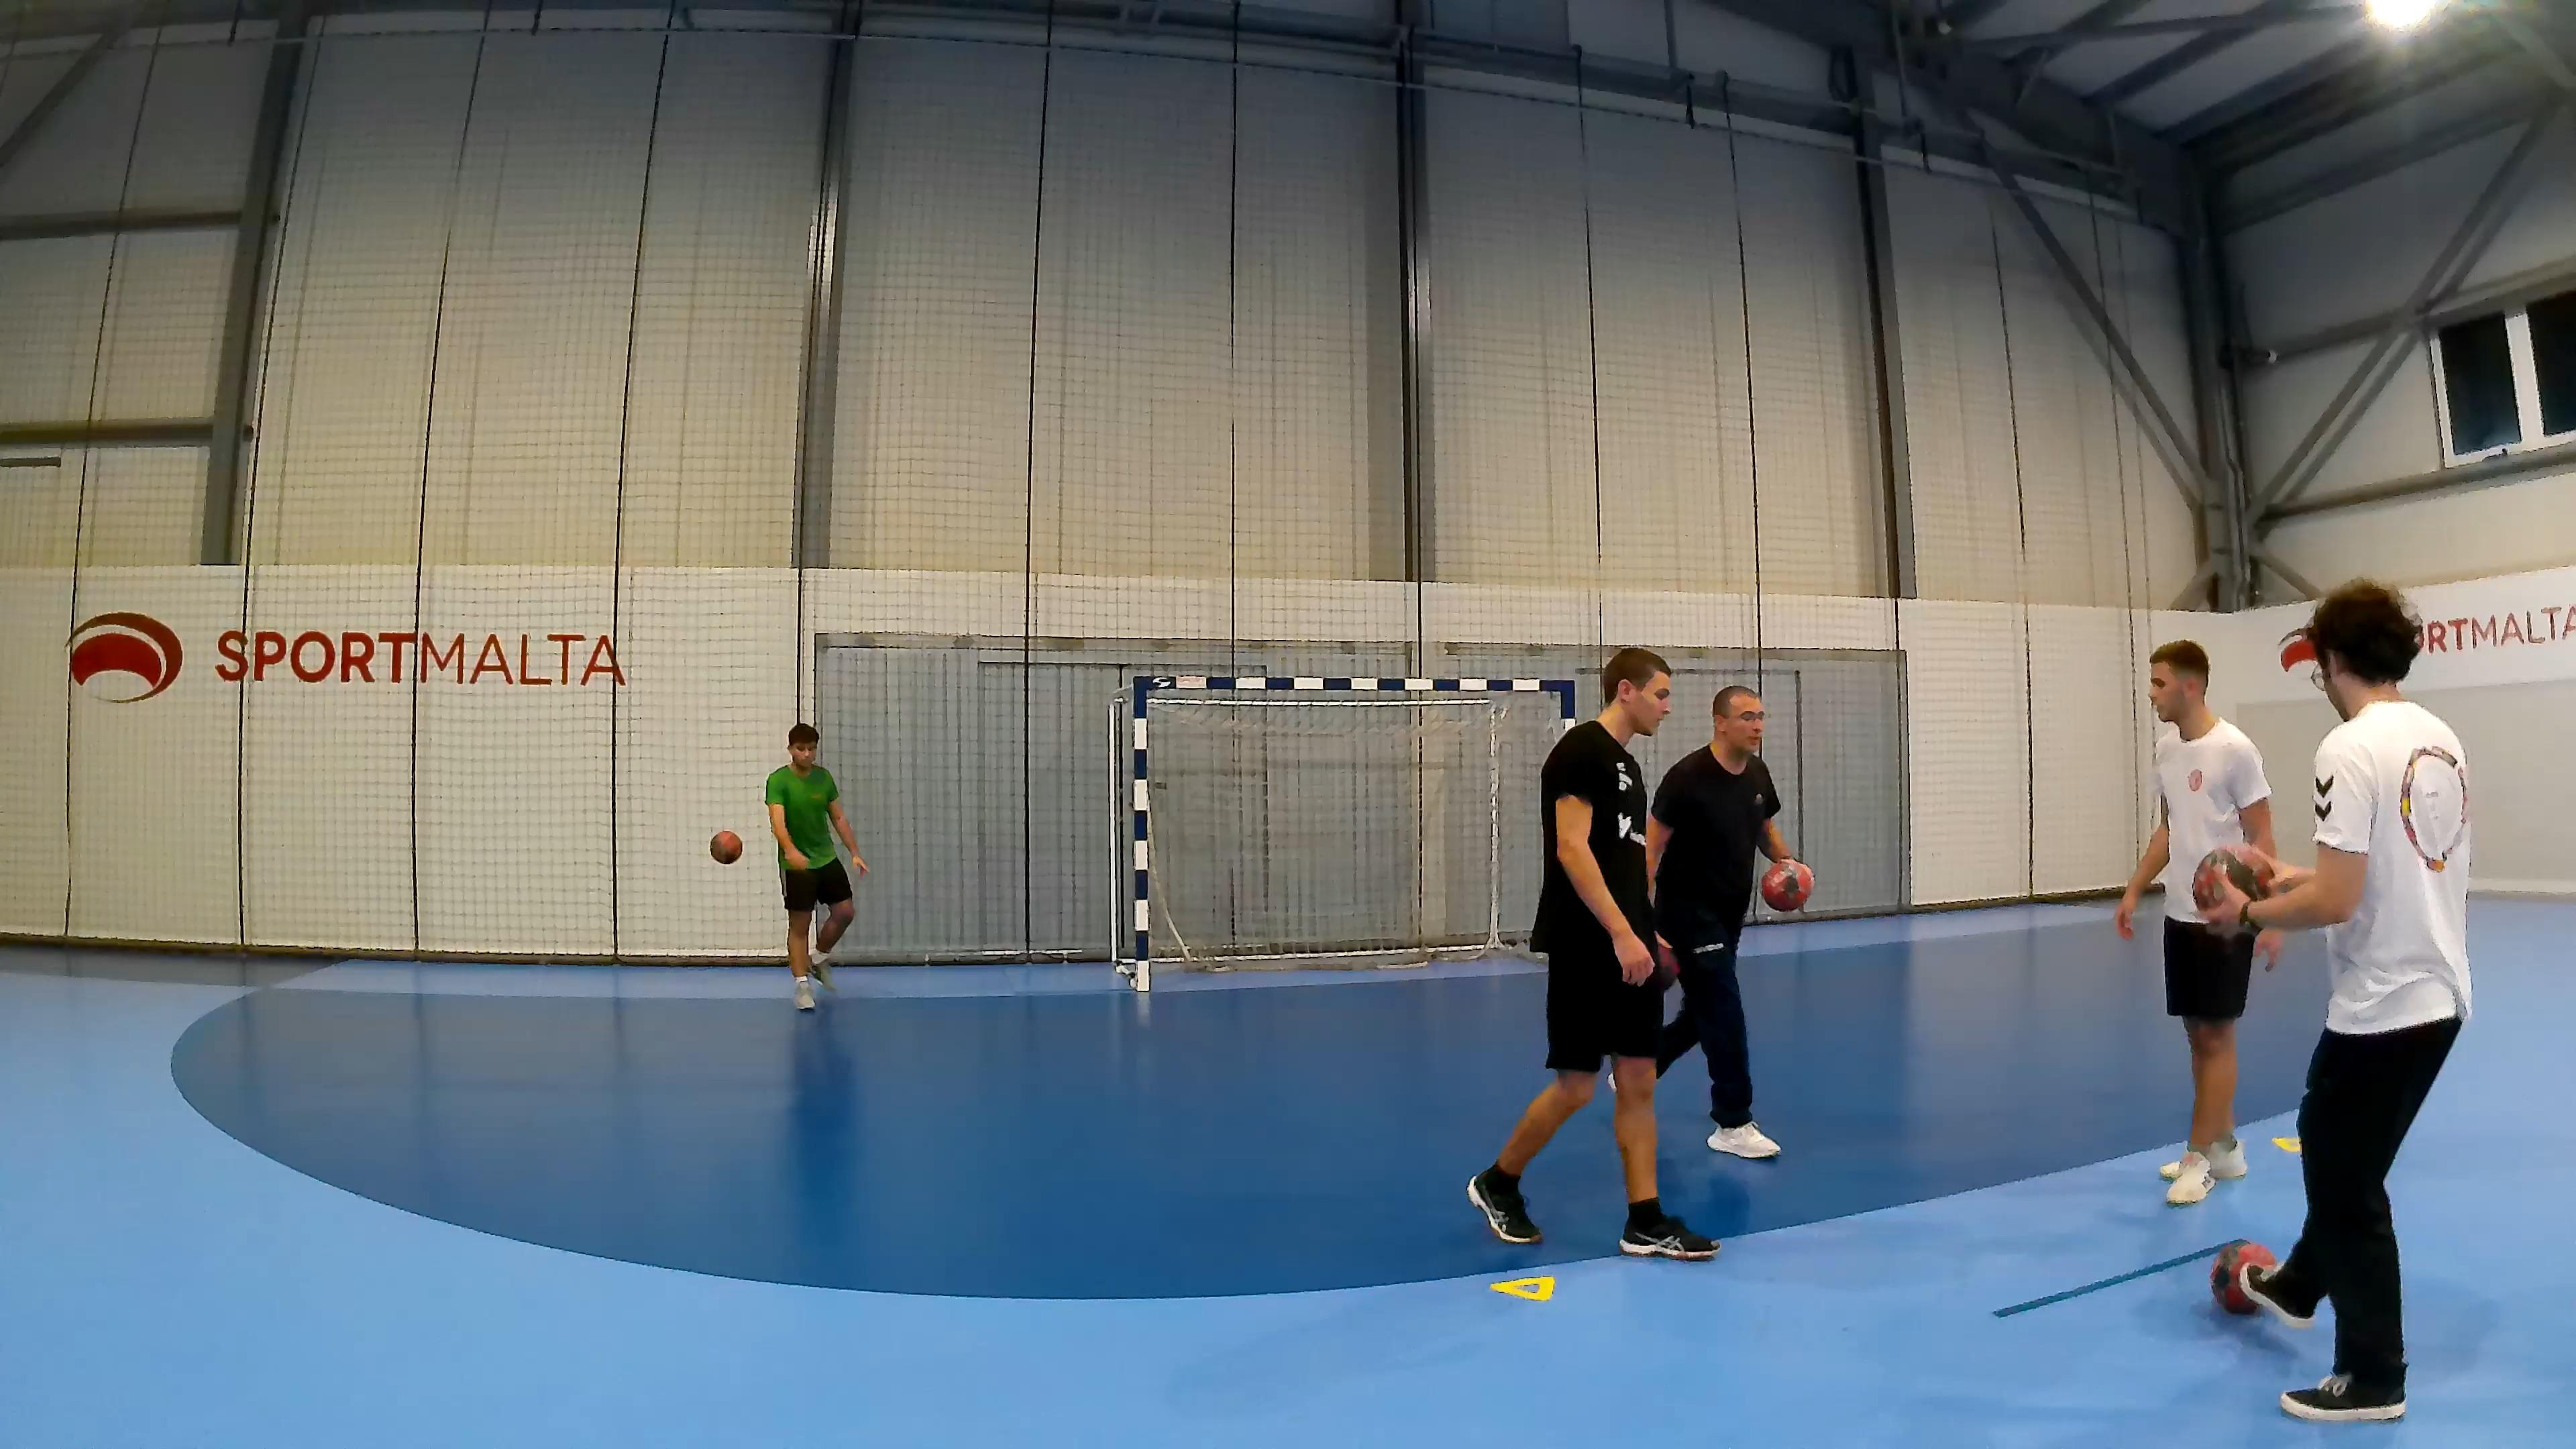handball: (2210, 1238, 2277, 1315), (1760, 858, 1813, 911), (708, 830, 741, 863)
